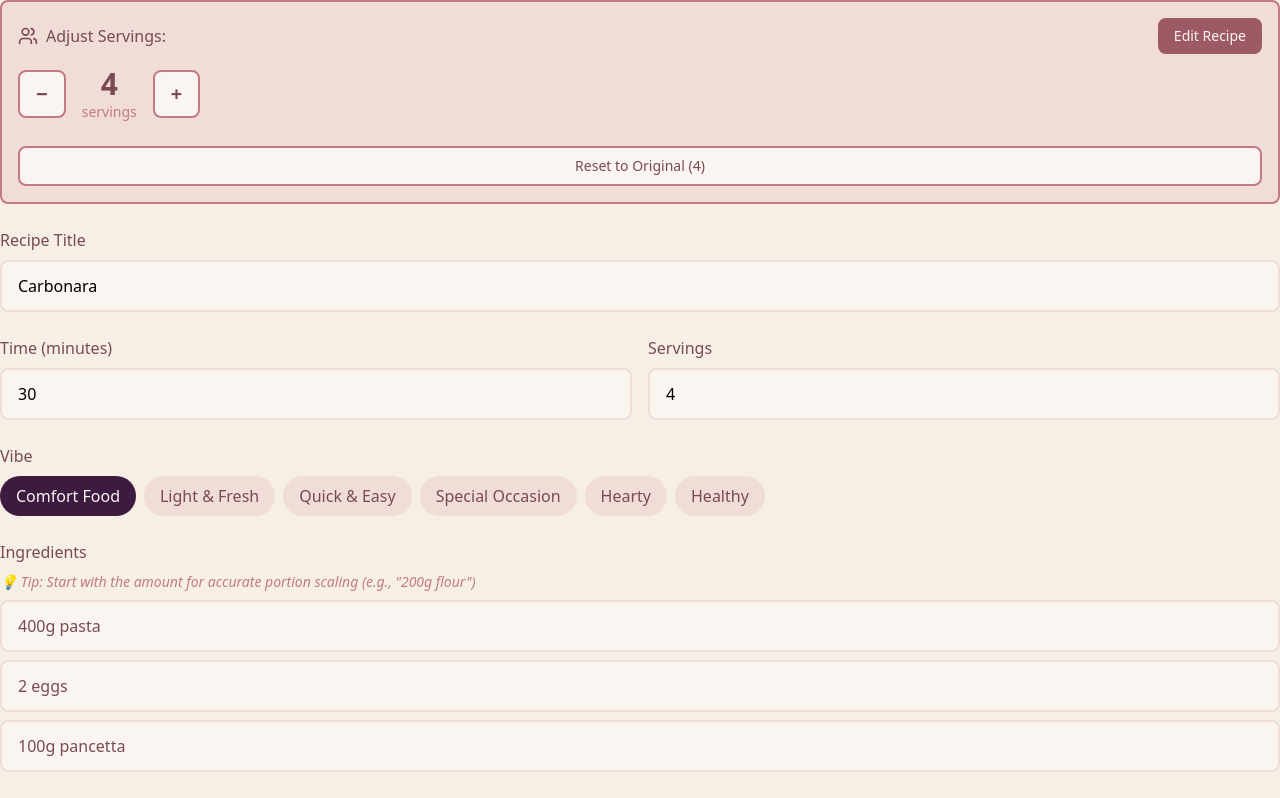
portion calculator › should reset to original servings when Reset button is clicked
This screenshot has width=1280, height=798.
Click the button "+". click: (177, 94)
box: x1=153 y1=70 x2=200 y2=118
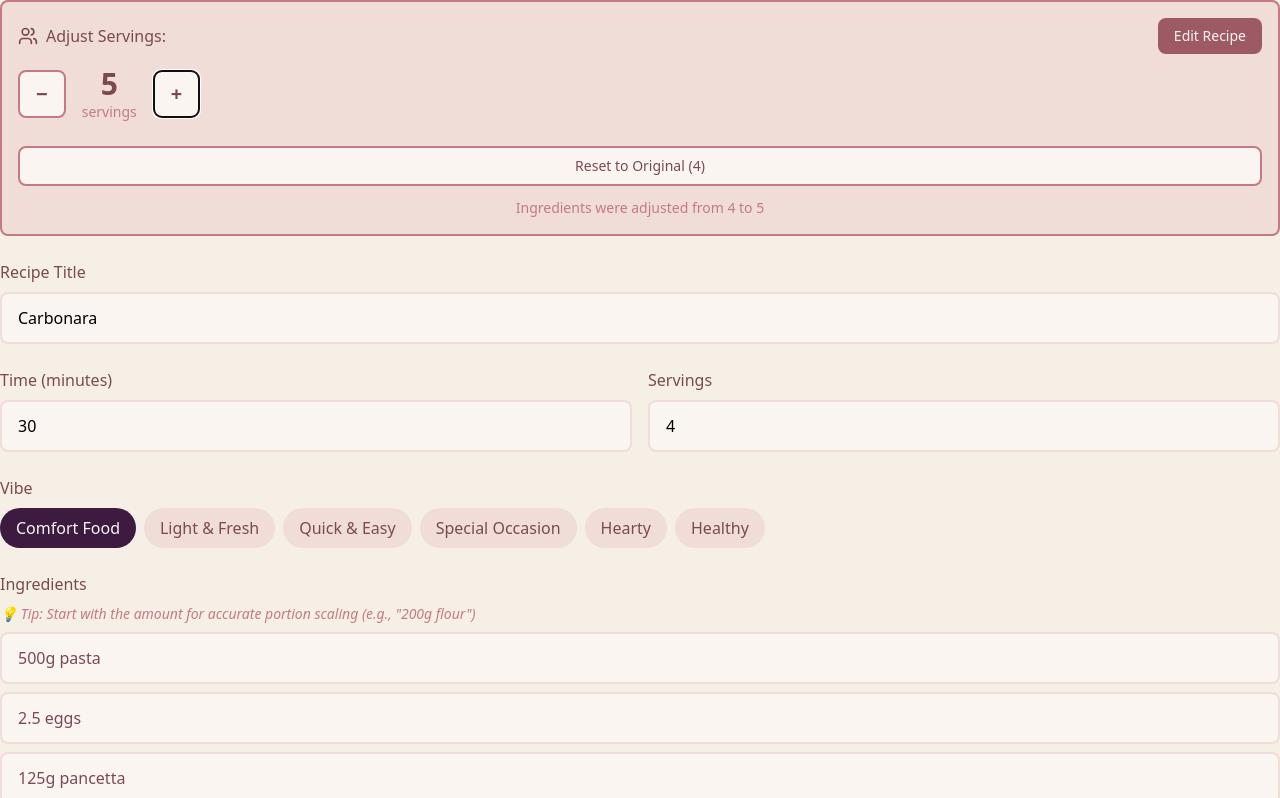
Expected: the text "5" is shown, x1=101 y1=63 x2=118 y2=104
Click the button "Reset to Original (4)". click: (640, 166)
box: x1=18 y1=146 x2=1262 y2=186
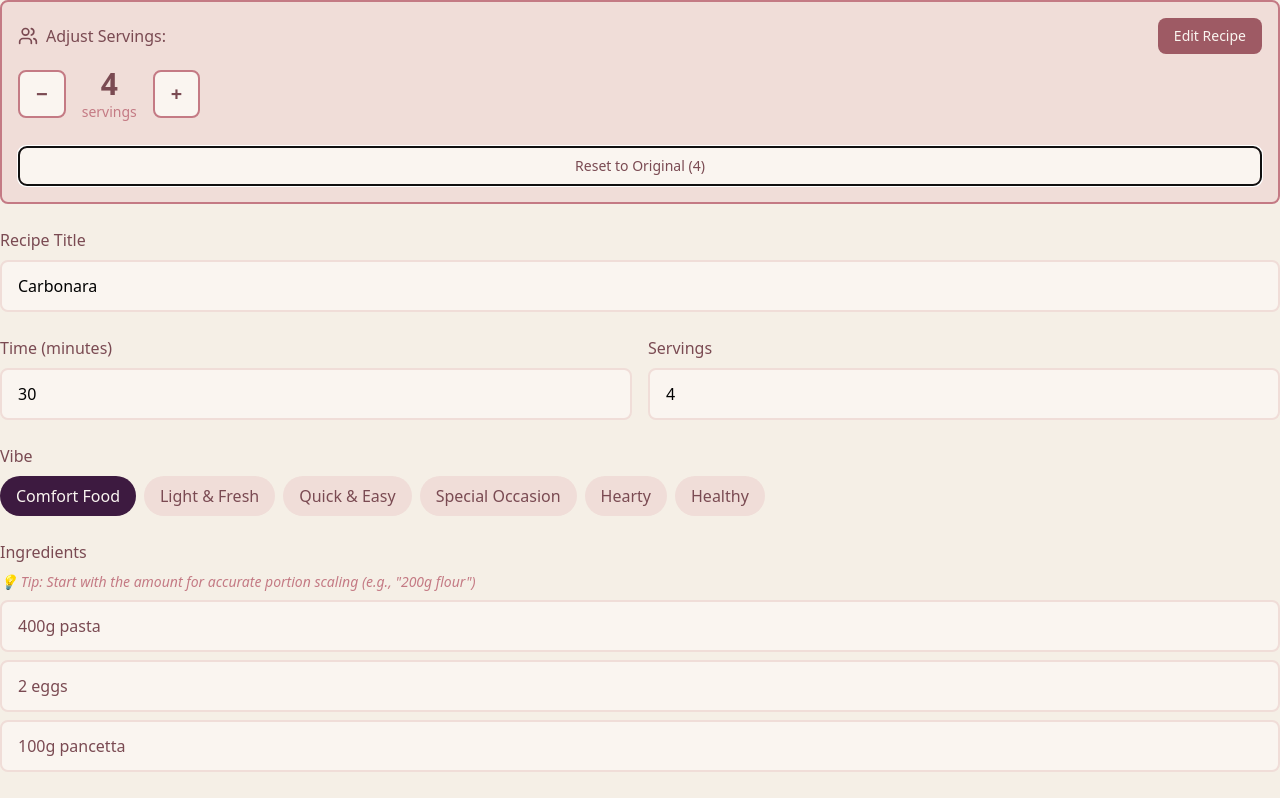
Expected: the text "4" is shown, x1=101 y1=63 x2=118 y2=104
Expected: the text "adjusted from" is gone
